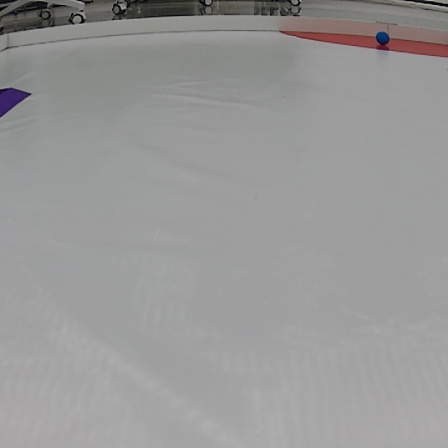blue: (372, 31, 393, 47)
red_base: (272, 29, 448, 59)
